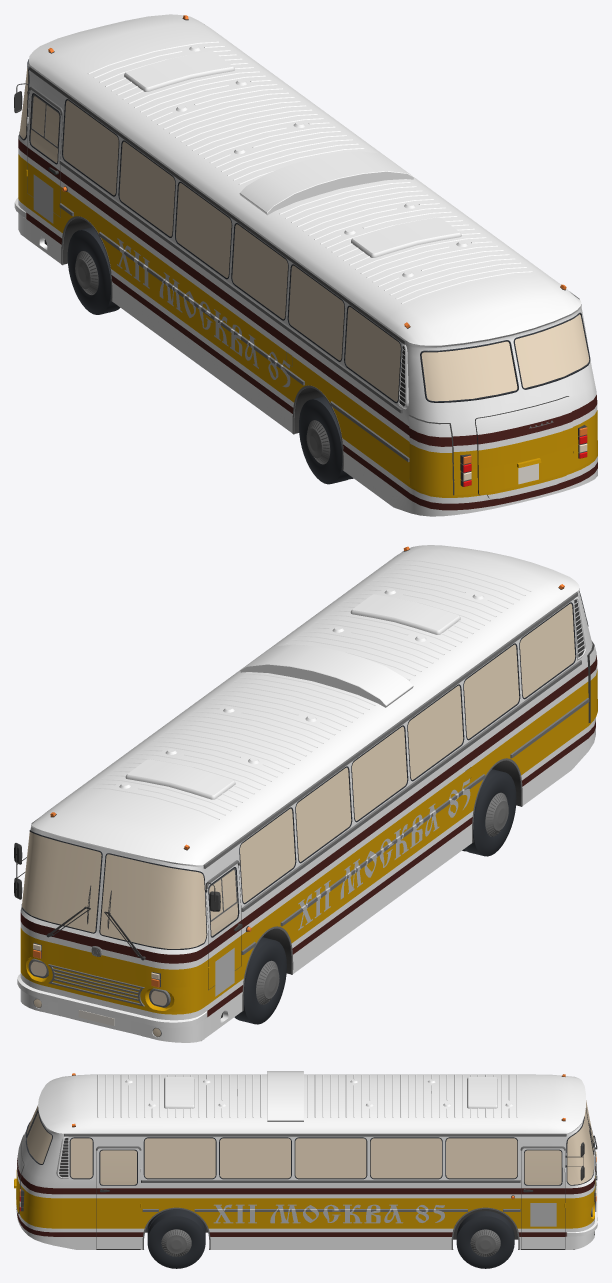
The model's file is laz_699_turist.FBX.
The picture shows the model from 3 angles, top to bottom: view 1: azimuth 30°, elevation 25°; view 2: azimuth 150°, elevation 25°; view 3: azimuth 270°, elevation 25°; orthographic projection. The views are drawn at different scales.
Parts seen in each view (by area): view 1: 17_kuzov_white, 01_glass, 18_kuzov_yellow, 19_kuzov_grey, 05_rezina, 06_metall, 07_black, 16_moskow, 15_igra; view 2: 17_kuzov_white, 01_glass, 18_kuzov_yellow, 06_metall, 05_rezina, 19_kuzov_grey, 07_black, 16_moskow, 15_igra; view 3: 17_kuzov_white, 01_glass, 18_kuzov_yellow, 05_rezina, 06_metall, 19_kuzov_grey, 16_moskow, 07_black, 15_igra.
Boxes of the visible parts, bbox=[...] form: 17_kuzov_white: bbox=[14, 14, 597, 516]; 01_glass: bbox=[19, 67, 589, 401]; 18_kuzov_yellow: bbox=[18, 154, 597, 497]; 19_kuzov_grey: bbox=[18, 139, 597, 510]; 05_rezina: bbox=[19, 59, 590, 484]; 06_metall: bbox=[28, 65, 579, 470]; 07_black: bbox=[14, 18, 587, 498]; 16_moskow: bbox=[117, 238, 290, 387]; 15_igra: bbox=[33, 174, 53, 223]; 17_kuzov_white: bbox=[17, 545, 597, 1042]; 01_glass: bbox=[22, 603, 575, 1005]; 18_kuzov_yellow: bbox=[20, 670, 597, 1014]; 06_metall: bbox=[28, 551, 589, 1037]; 05_rezina: bbox=[21, 591, 588, 1024]; 19_kuzov_grey: bbox=[20, 655, 597, 1016]; 07_black: bbox=[14, 549, 594, 1036]; 16_moskow: bbox=[298, 778, 470, 930]; 15_igra: bbox=[215, 948, 234, 996]; 17_kuzov_white: bbox=[16, 1071, 597, 1249]; 01_glass: bbox=[27, 1100, 593, 1184]; 18_kuzov_yellow: bbox=[14, 1170, 595, 1228]; 05_rezina: bbox=[25, 1108, 594, 1268]; 06_metall: bbox=[17, 1133, 596, 1256]; 19_kuzov_grey: bbox=[16, 1158, 595, 1236]; 16_moskow: bbox=[213, 1204, 444, 1223]; 07_black: bbox=[18, 1075, 597, 1249]; 15_igra: bbox=[530, 1203, 556, 1226].
Bounding box in the file's own units: 275 × 309 × 1054.
